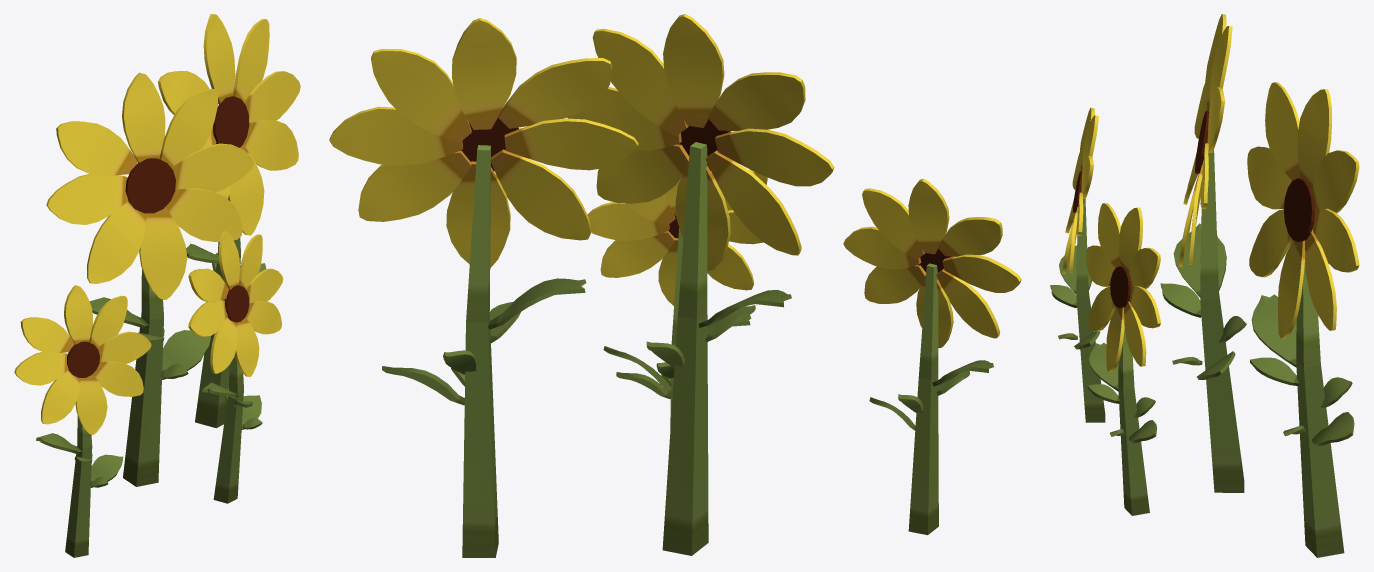
File: GiraSol.glb
3 views of the same model, side by side, from view 1: azimuth 30°, elevation 25°; view 2: azimuth 150°, elevation 25°; view 3: azimuth 270°, elevation 25° (orthographic). The views are drawn at different scales.
Visible parts, largest first — view 1: GiraSol; view 2: GiraSol; view 3: GiraSol.
Part boxes in pixels (x1,y1,x2,y2): GiraSol: [14, 14, 300, 557]; GiraSol: [329, 14, 1021, 557]; GiraSol: [1050, 14, 1359, 557].
Size of the model in its own units: 2.88 by 2.76 by 1.67.
1 material, 1 textured.
